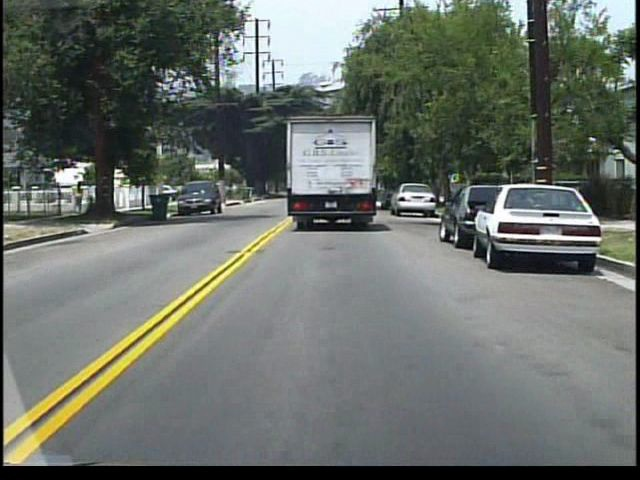person: (75, 180, 88, 215)
